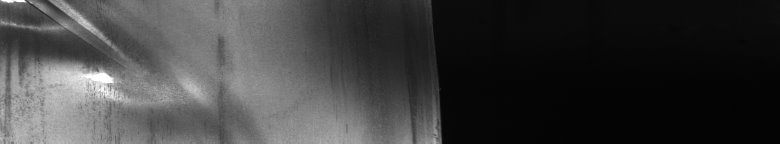ke: (4, 4, 117, 88)
